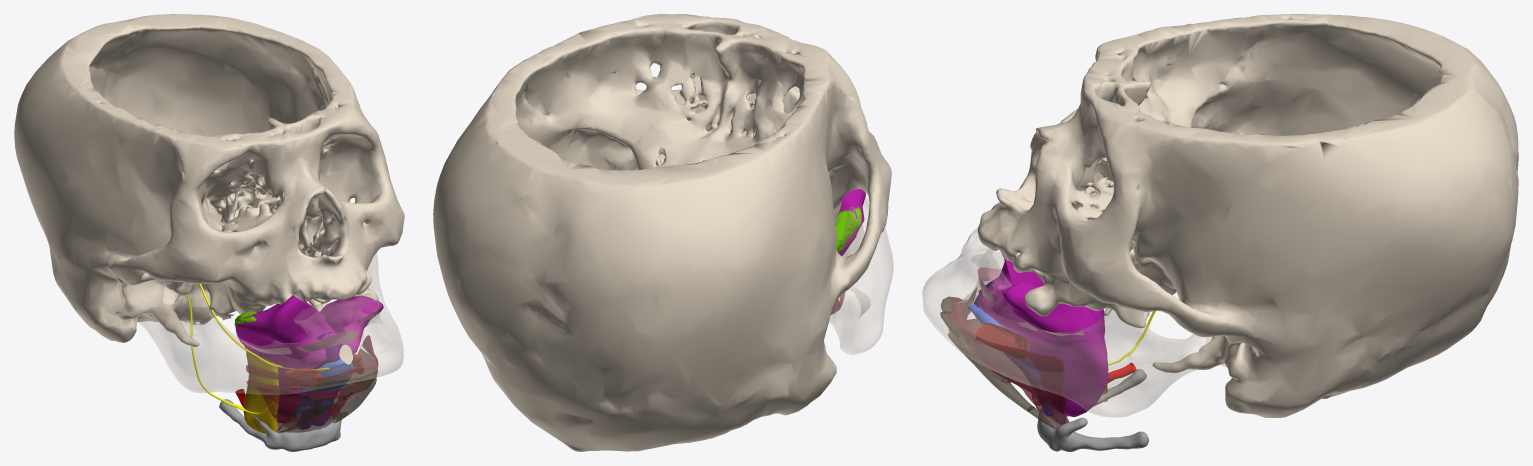
The model's file is step04.glb.
The picture shows the model from 3 angles, left to right: view 1: azimuth 30°, elevation 25°; view 2: azimuth 150°, elevation 25°; view 3: azimuth 270°, elevation 25°; orthographic projection. The views are drawn at different scales.
Visible parts, largest first — view 1: 骨全体 下顎骨除く, 下顎骨, step01, step03, step05, 舌骨, step04, step02_口腔底粘膜; view 2: 骨全体 下顎骨除く, 下顎骨, Ca, step01; view 3: 骨全体 下顎骨除く, 下顎骨, step01, step03, 舌骨, step04, step006, step02_口腔底粘膜.
Boxes of the visible parts, left/top/right/bottom form: 骨全体 下顎骨除く: left=14, top=14, right=404, bottom=346; 下顎骨: left=118, top=253, right=403, bottom=394; step01: left=236, top=295, right=383, bottom=422; step03: left=246, top=335, right=378, bottom=433; step05: left=186, top=284, right=329, bottom=434; 舌骨: left=219, top=399, right=341, bottom=451; step04: left=296, top=332, right=353, bottom=429; step02_口腔底粘膜: left=236, top=330, right=358, bottom=354; 骨全体 下顎骨除く: left=433, top=14, right=891, bottom=451; 下顎骨: left=829, top=196, right=893, bottom=354; Ca: left=835, top=207, right=861, bottom=251; step01: left=838, top=189, right=865, bottom=255; 骨全体 下顎骨除く: left=977, top=14, right=1518, bottom=417; 下顎骨: left=922, top=228, right=1224, bottom=417; step01: left=978, top=258, right=1108, bottom=416; step03: left=940, top=296, right=1068, bottom=428; 舌骨: left=1037, top=369, right=1148, bottom=451; step04: left=965, top=275, right=1053, bottom=416; step006: left=975, top=322, right=1029, bottom=358; step02_口腔底粘膜: left=977, top=267, right=1083, bottom=335.
Bounding box in the file's own units: 1.49 × 1.59 × 2.43.
